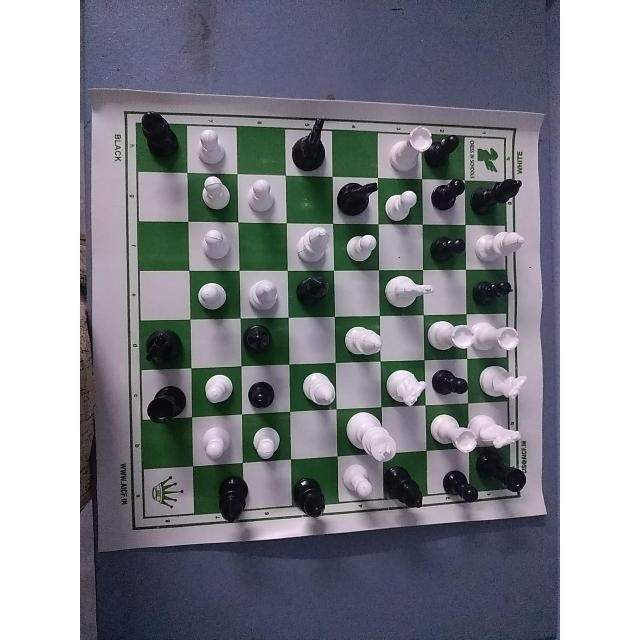black-bishop: (133, 105, 181, 168), (213, 478, 255, 529), (387, 469, 429, 517), (297, 270, 337, 317), (475, 178, 525, 214), (291, 474, 331, 517), (240, 323, 279, 367)
black-knight: (285, 112, 330, 176), (137, 321, 192, 369), (337, 181, 377, 217)
black-pawn: (429, 361, 472, 407), (436, 461, 477, 507), (475, 275, 521, 309), (245, 370, 283, 409), (432, 177, 468, 218), (431, 230, 466, 270), (432, 130, 460, 167)
black-rook: (143, 378, 189, 429), (482, 456, 534, 501)
white-bishop: (472, 225, 528, 270), (246, 271, 292, 318), (337, 313, 382, 361), (292, 224, 334, 265), (296, 370, 336, 410)
white-king: (343, 415, 395, 463)
white-knight: (473, 361, 531, 407), (380, 265, 435, 309), (475, 415, 530, 451), (386, 362, 426, 410)
white-pawn: (189, 126, 235, 167), (192, 273, 230, 319), (339, 466, 378, 510), (194, 226, 234, 266), (252, 414, 286, 461), (201, 368, 237, 412), (199, 422, 235, 463), (199, 170, 230, 214), (389, 183, 418, 227), (345, 227, 377, 266), (245, 177, 273, 219)
white-rook: (472, 310, 532, 356), (381, 128, 429, 172), (429, 408, 473, 456), (426, 312, 471, 356)
